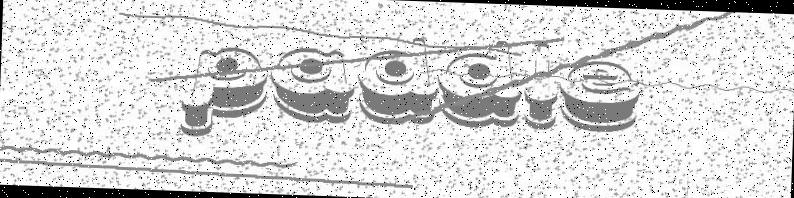a: (270, 48, 355, 124)
d: (437, 39, 524, 129), (356, 37, 439, 125)
e: (559, 60, 640, 132)
l: (525, 42, 559, 129)
p: (183, 46, 269, 140)
